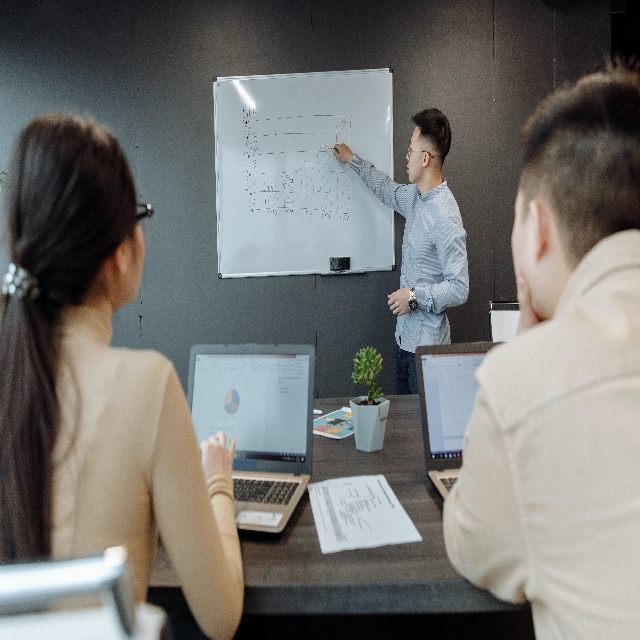Gafas: (135, 199, 153, 226), (407, 144, 434, 161)
Sin_guantes: (198, 429, 237, 479), (387, 286, 412, 317), (332, 143, 351, 164)
